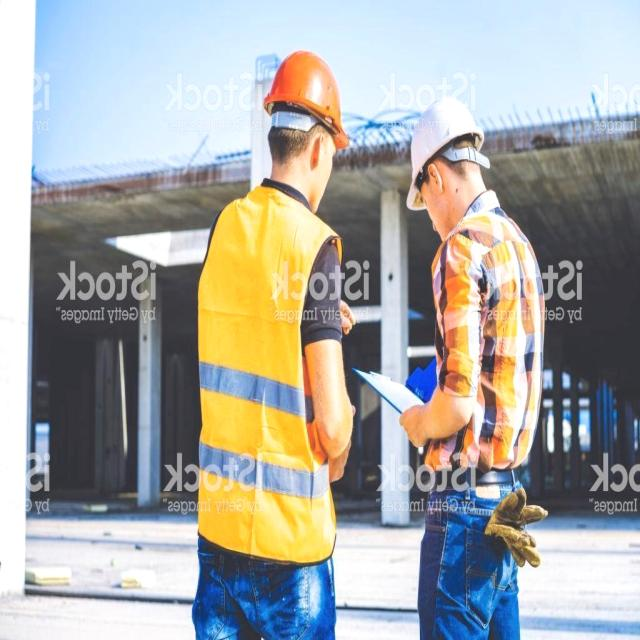face_nomask: (289, 129, 337, 210), (414, 162, 457, 248)
hand_noglove: (395, 395, 427, 451), (337, 292, 356, 340)
head_helmet: (401, 84, 476, 208), (264, 53, 349, 147)
person: (193, 42, 343, 640), (409, 84, 523, 640)
vest: (196, 202, 325, 544)
